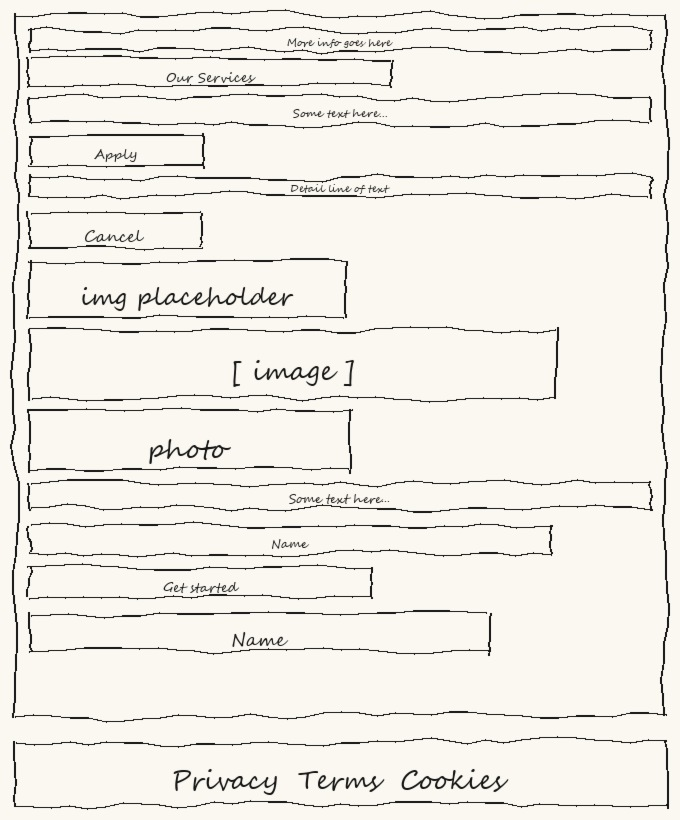card: (30, 330, 556, 399), (30, 411, 351, 472), (30, 613, 488, 653), (30, 263, 345, 318), (30, 482, 650, 509), (30, 97, 650, 122), (30, 525, 552, 553), (30, 30, 650, 51), (30, 176, 650, 197), (30, 59, 392, 88), (30, 568, 372, 597), (30, 212, 200, 248), (30, 135, 202, 166)
footer: (14, 741, 666, 806)
section: (14, 14, 666, 717)
